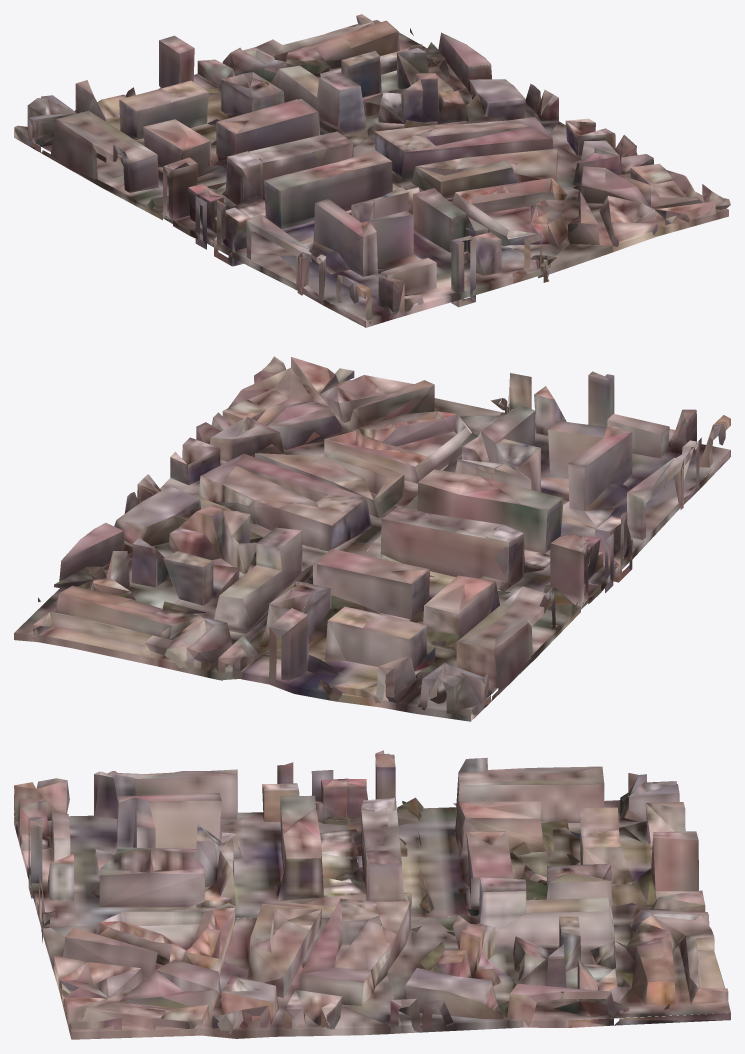
The picture shows the model from 3 angles, top to bottom: view 1: azimuth 30°, elevation 25°; view 2: azimuth 150°, elevation 25°; view 3: azimuth 270°, elevation 25°; orthographic projection. The views are drawn at different scales.
Visible parts, largest first — view 1: Mesh_0; view 2: Mesh_0; view 3: Mesh_0.
Part boxes in pixels (left/top/right/bottom): Mesh_0: left=14, top=14, right=730, bottom=327; Mesh_0: left=14, top=356, right=730, bottom=721; Mesh_0: left=14, top=750, right=730, bottom=1039.
Size of the model in its own units: 535 by 107 by 659.
2 materials, 2 textured.
